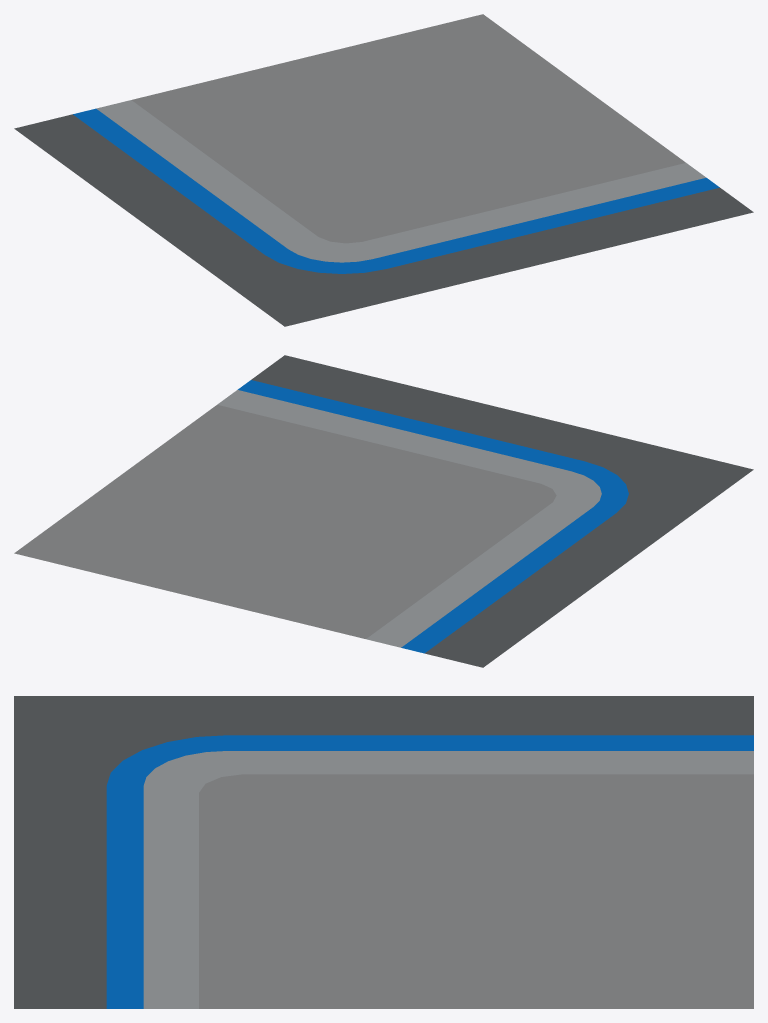
Rendered from Ceiling_type_B_013.fbx.
3 renders of one model, top to bottom at view 1: azimuth 30°, elevation 25°; view 2: azimuth 150°, elevation 25°; view 3: azimuth 270°, elevation 25°, orthographic. The views are drawn at different scales.
Visible parts, largest first — view 1: Ceiling_type_B_013; view 2: Ceiling_type_B_013; view 3: Ceiling_type_B_013.
Part boxes in pixels (left/top/right/bottom): Ceiling_type_B_013: left=14, top=14, right=753, bottom=326; Ceiling_type_B_013: left=14, top=355, right=753, bottom=667; Ceiling_type_B_013: left=14, top=696, right=753, bottom=1008.
Size of the model in its own units: 400 by 400 by 5.7.
